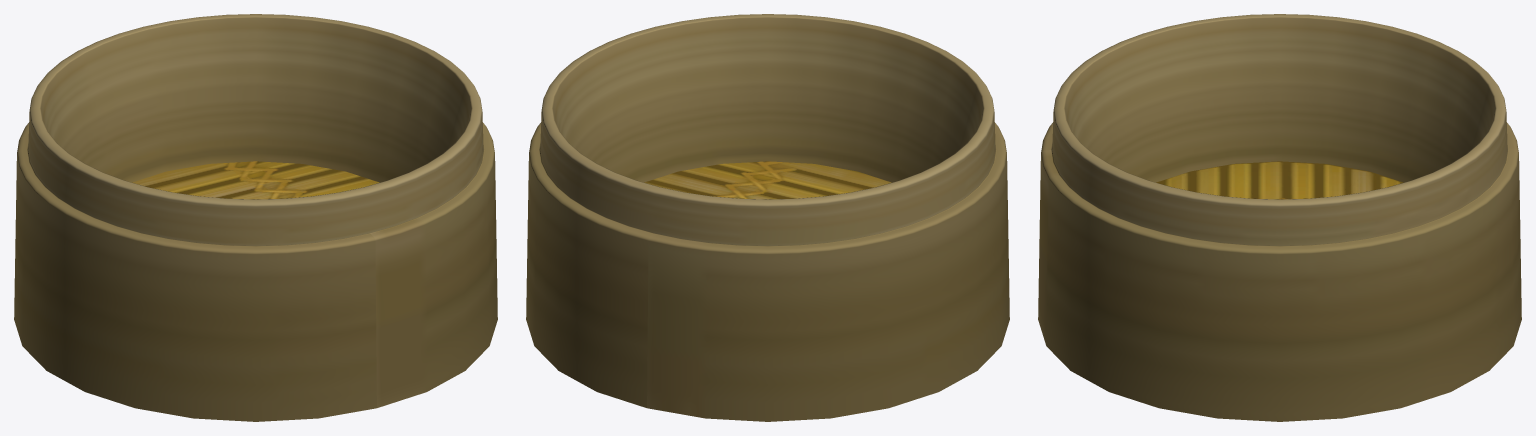
File: scene_breakfast.obj
3 renders of one model, left to right at view 1: azimuth 30°, elevation 25°; view 2: azimuth 150°, elevation 25°; view 3: azimuth 270°, elevation 25°, orthographic.
Parts seen in each view (by area): view 1: zhenglong; view 2: zhenglong; view 3: zhenglong.
Boxes of the visible parts, bbox=[...] form: zhenglong: bbox=[14, 14, 497, 421]; zhenglong: bbox=[526, 14, 1009, 421]; zhenglong: bbox=[1038, 14, 1521, 421].
Size of the model in its own units: 7.58 by 3.66 by 7.58.
